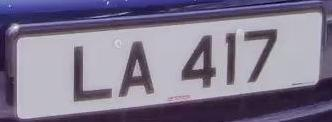1: (218, 25, 247, 95)
4: (178, 28, 223, 97)
7: (239, 21, 284, 89)
A: (115, 34, 162, 103)
L: (63, 39, 118, 107)
